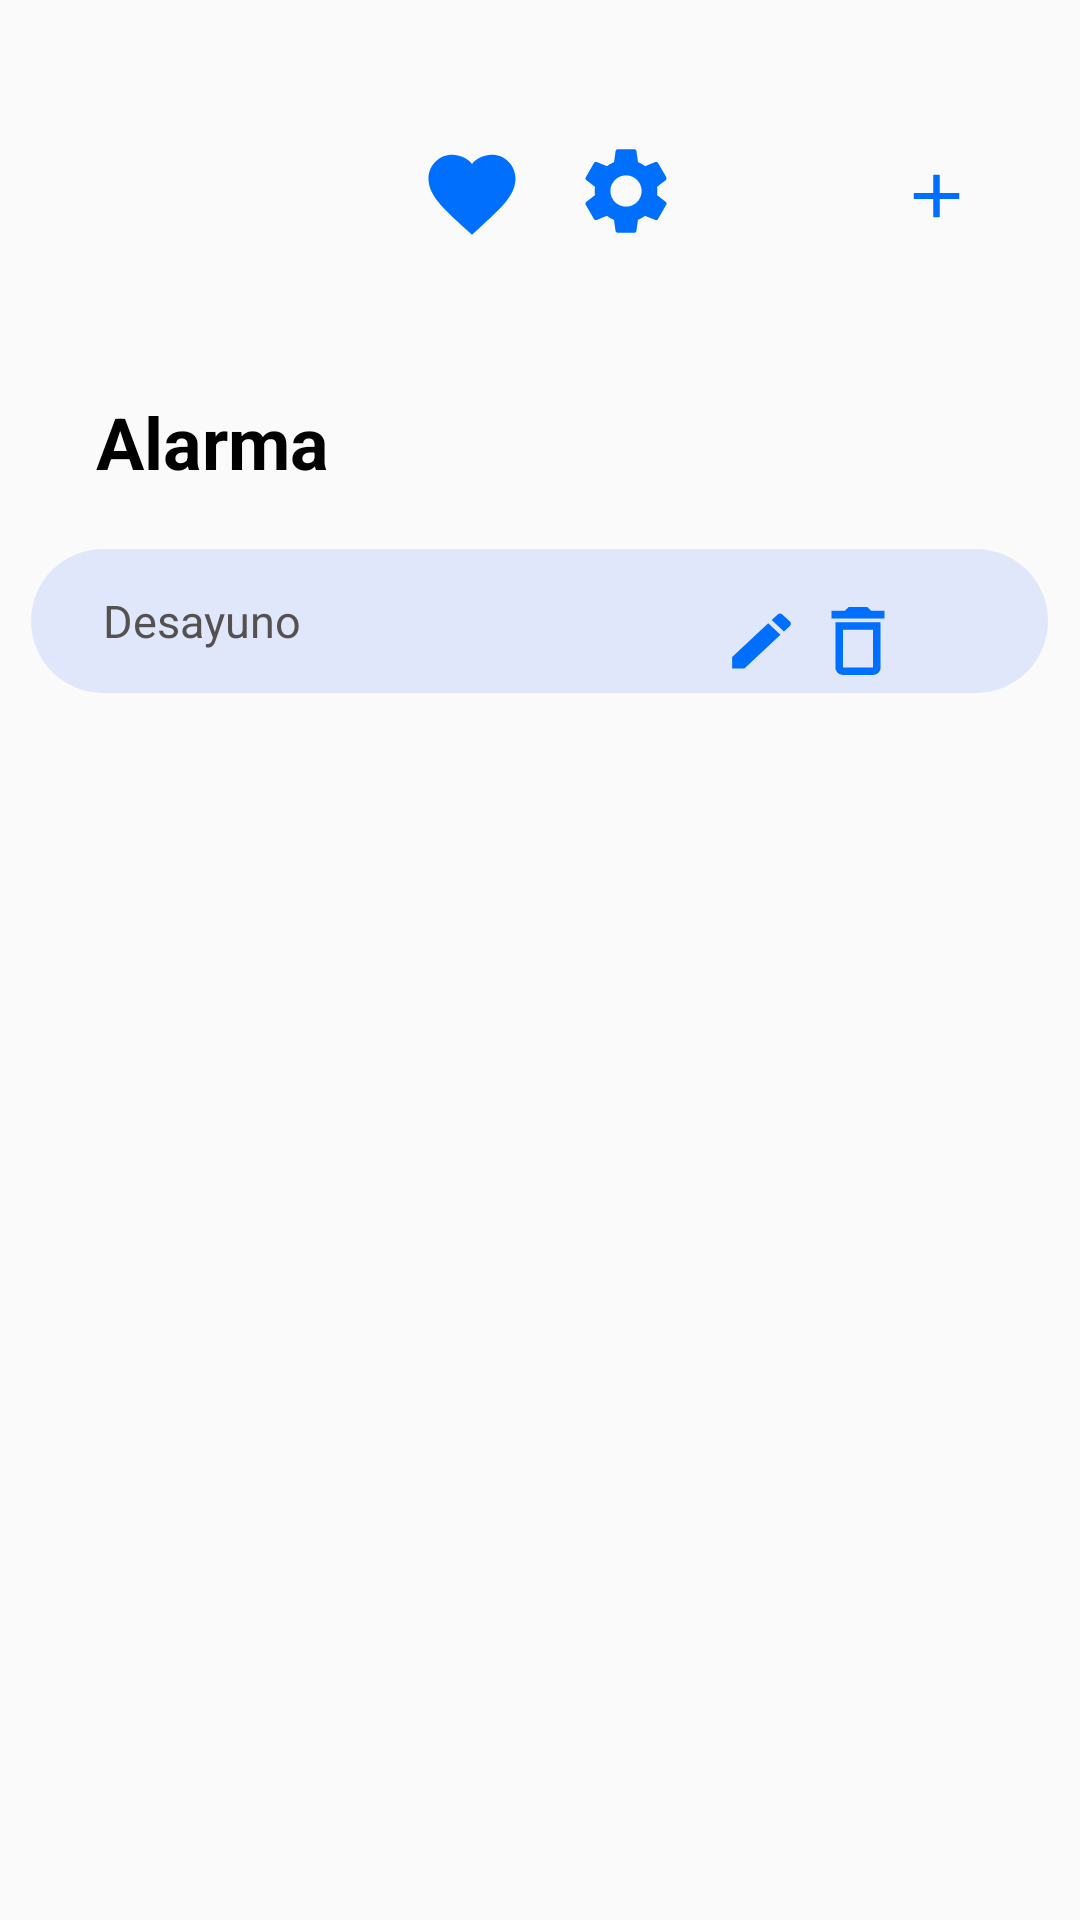

Icon click points for this 1080×1920 phone screenshot, format (x,y):
agregar: (936,196)
config: (626,191)
eliminar: (858,641)
heart: (472,194)
